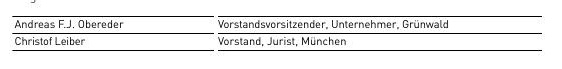table: (0, 0, 562, 69)
